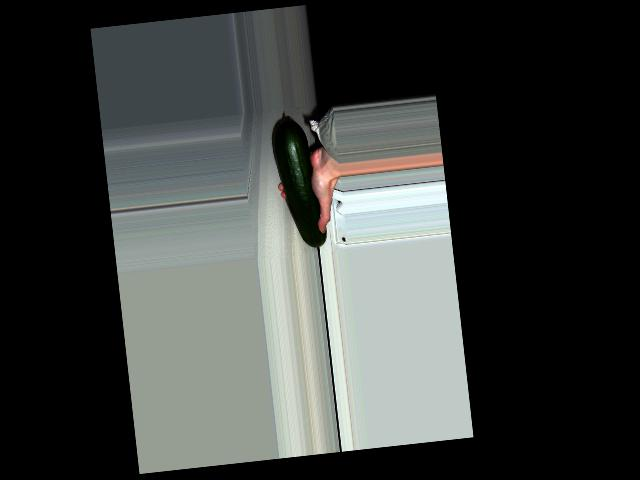cucumber: (269, 113, 327, 251)
